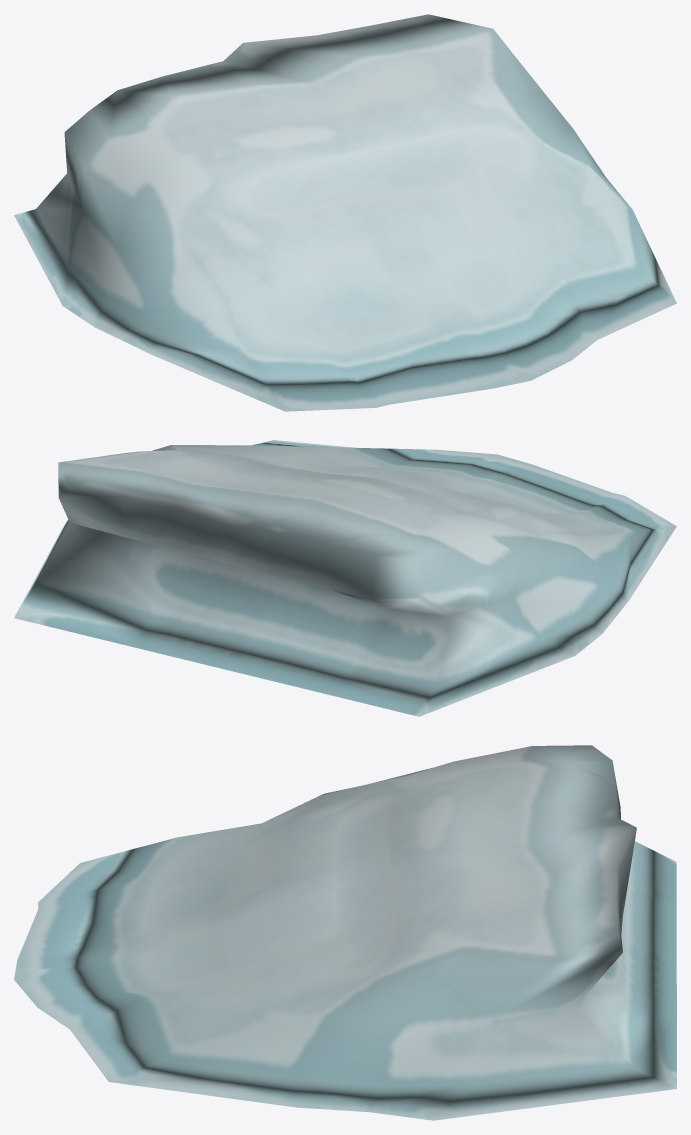
File: Projectile_Ramp_Ice.obj
3 renders of one model, top to bottom at view 1: azimuth 30°, elevation 25°; view 2: azimuth 150°, elevation 25°; view 3: azimuth 270°, elevation 25°, orthographic. The views are drawn at different scales.
Visible parts, largest first — view 1: Projectile_Ramp_Ice:Ice_Ramp; view 2: Projectile_Ramp_Ice:Ice_Ramp; view 3: Projectile_Ramp_Ice:Ice_Ramp.
Part boxes in pixels (bbox=[...]): Projectile_Ramp_Ice:Ice_Ramp: bbox=[14, 14, 676, 411]; Projectile_Ramp_Ice:Ice_Ramp: bbox=[14, 440, 676, 716]; Projectile_Ramp_Ice:Ice_Ramp: bbox=[14, 745, 676, 1120].
Size of the model in its own units: 161 by 39.28 by 156.
Materials: 1 (1 with a texture image).
